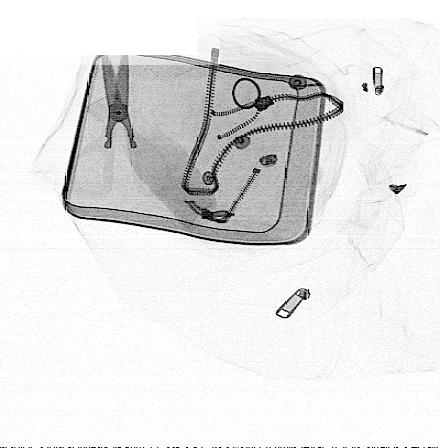Scissors: (62, 50, 177, 203)
